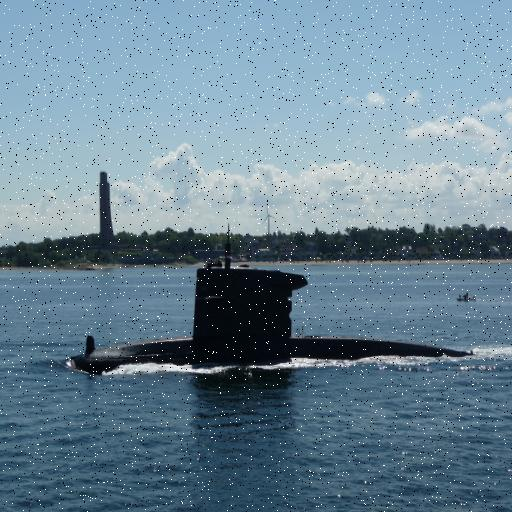submarine: (70, 259, 487, 375)
